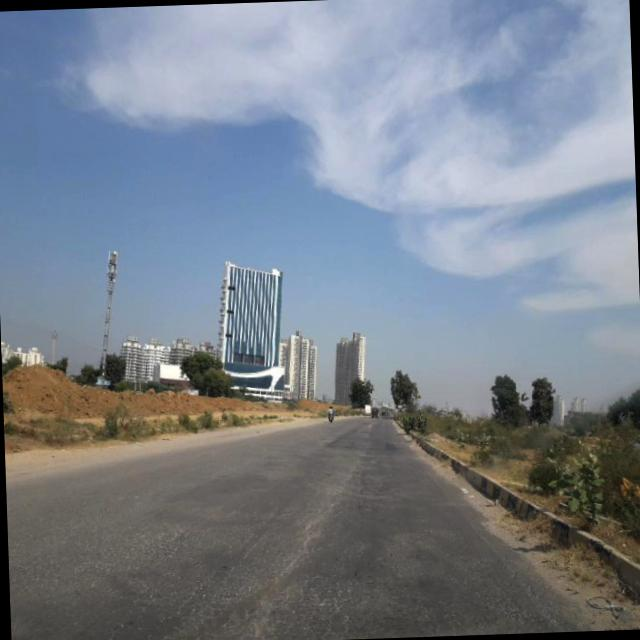crack: (8, 511, 545, 640)
pothole: (234, 459, 366, 637)
